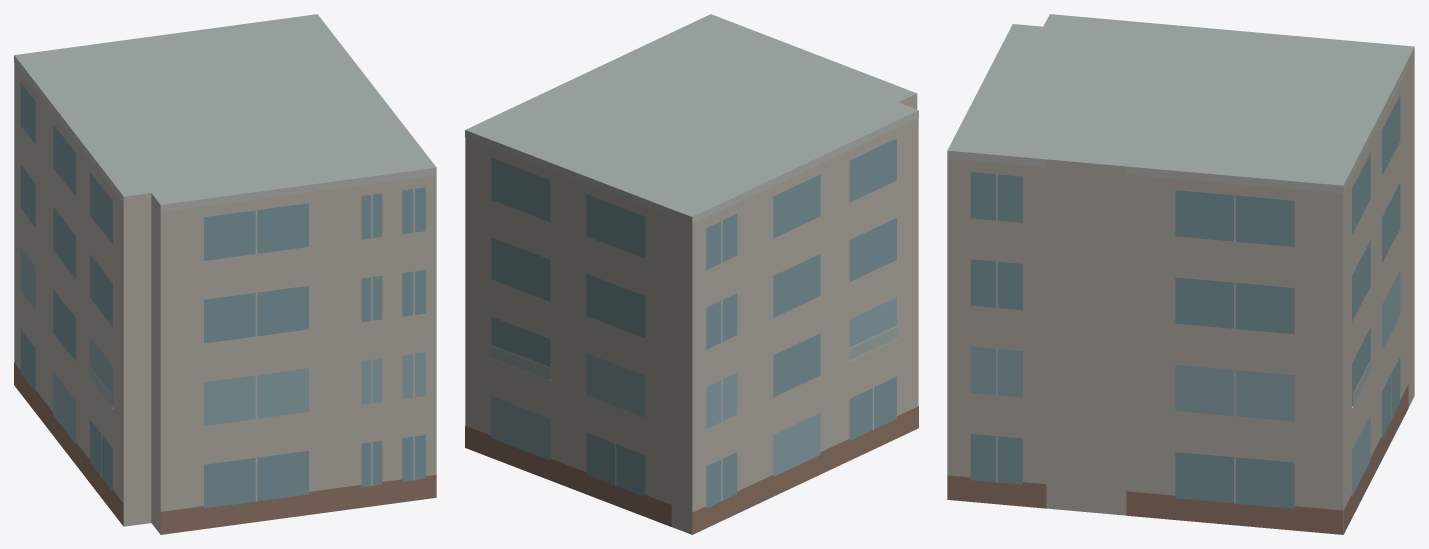
Rendered from survey-upis-32963742.glb.
3 renders of one model, left to right at view 1: azimuth 30°, elevation 25°; view 2: azimuth 150°, elevation 25°; view 3: azimuth 270°, elevation 25°, orthographic. The views are drawn at different scales.
Parts seen in each view (by area): view 1: survey-upis-32963742.tmp; view 2: survey-upis-32963742.tmp; view 3: survey-upis-32963742.tmp.
Part boxes in pixels (<box>): survey-upis-32963742.tmp: <box>14,14,436,534</box>; survey-upis-32963742.tmp: <box>465,14,918,534</box>; survey-upis-32963742.tmp: <box>947,14,1414,534</box>.
Bounding box in the file's own units: 11.37 × 10.77 × 13.07.
